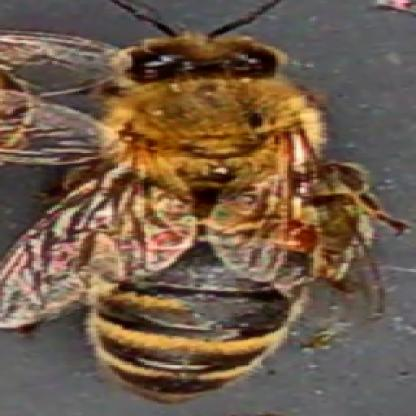bee: (96, 33, 326, 399), (0, 35, 82, 163)
vaoora: (271, 220, 308, 251)
